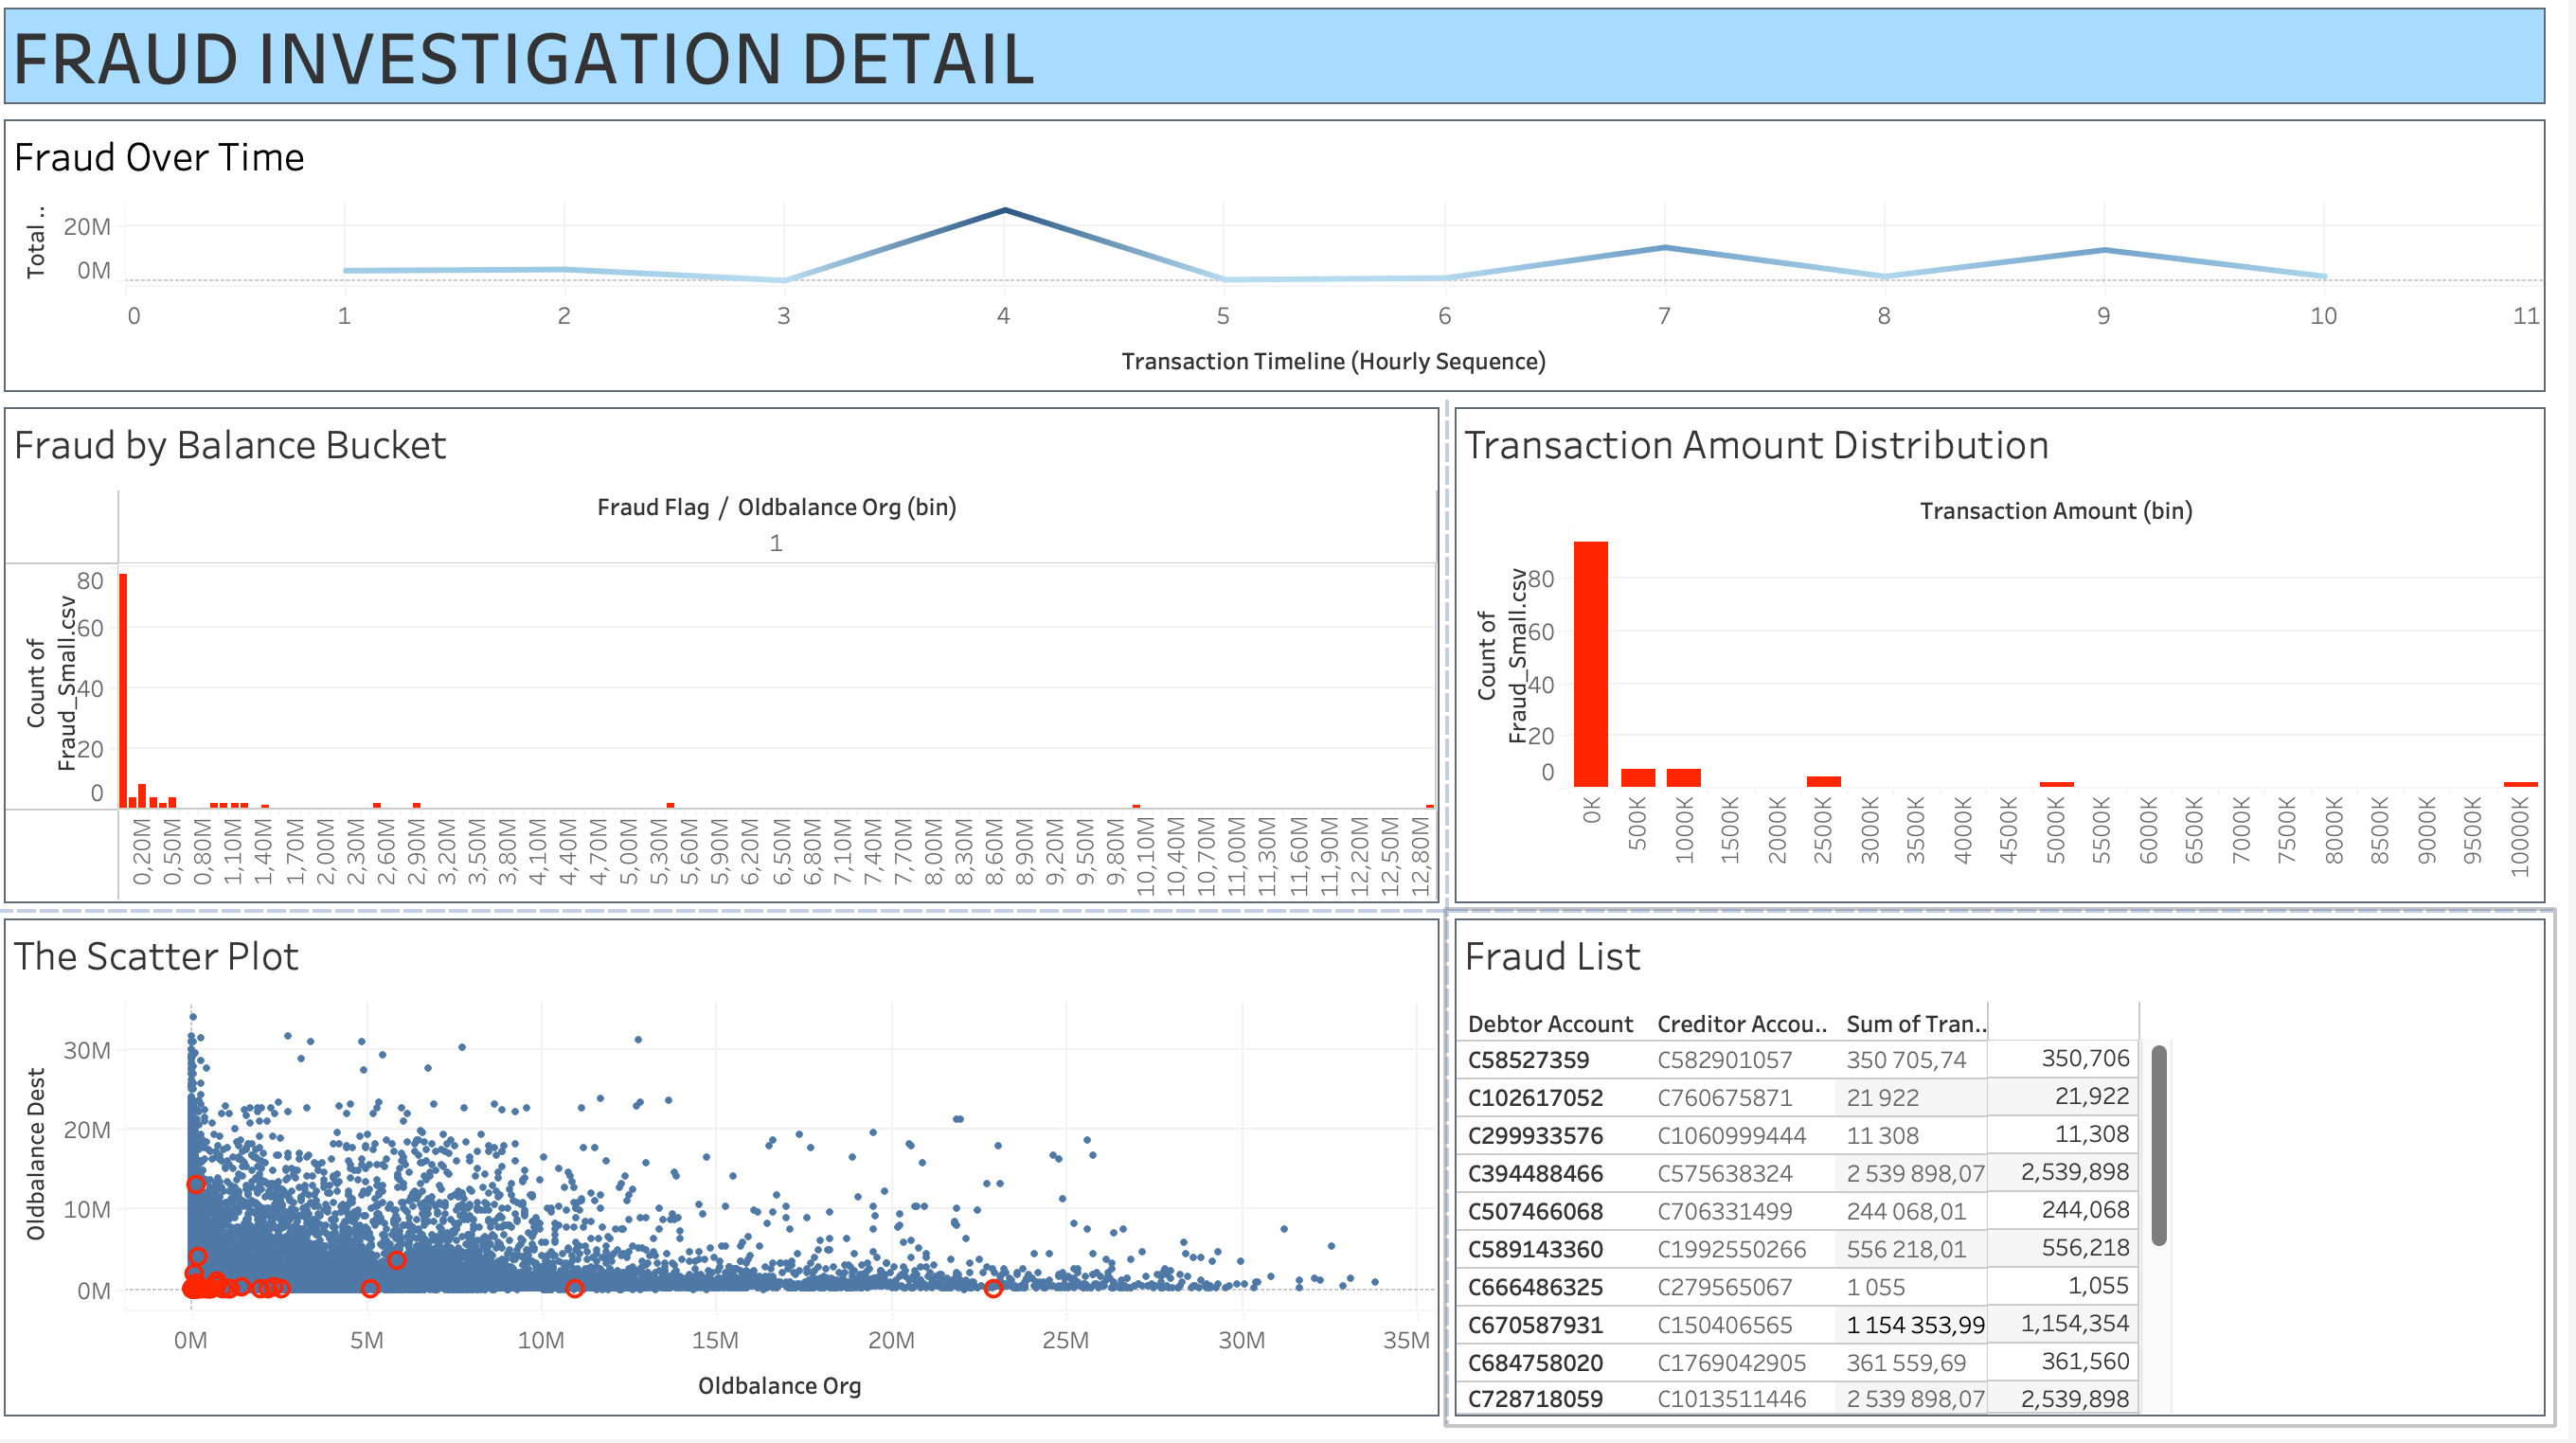

Layout of this report page (visuals, bound fields, positions):
{"tool":"tableau","page":{"name":"FRAUD INVESTIGATION DETAIL","canvas":[1366,768],"ordinal":1},"visuals":[{"type":"title","box":[8,8,1350,59]},{"type":"worksheet","title":"Fraud Over Time","mark":"Automatic","rows":["Calculation_2212416219545603"],"cols":["step"],"box":[8,67,1350,152]},{"type":"worksheet","title":"Fraud by Balance Bucket","mark":"Bar","rows":["Fraud_Small.csv_631AA968BD4843E093479AFE5AF47718"],"cols":["isFraud","Oldbalance Org (bin)"],"box":[8,219,765.7,270.5]},{"type":"worksheet","title":"Transaction Amount Distribution","mark":"Automatic","rows":["Fraud_Small.csv_631AA968BD4843E093479AFE5AF47718"],"cols":["Transaction Amount (bin)"],"box":[773.7,219,584.3,270.5]},{"type":"worksheet","title":"The Scatter Plot","mark":"Automatic","rows":["oldbalanceDest"],"cols":["oldbalanceOrg"],"box":[8,489.5,766,270.5]},{"type":"worksheet","title":"Fraud List","mark":"Automatic","rows":["nameOrig","nameDest","amount"],"box":[774,489.5,584,270.5]}]}

Visuals, with their boxes in screenshot pixels (x1, y1, x2, y2), scaled from the page's 1366x768 canvas onto the 2576x1443 screenshot:
title: Rect(15, 15, 2561, 126)
"Fraud Over Time" worksheet: Rect(15, 126, 2561, 412)
"Fraud by Balance Bucket" worksheet (Bar marks): Rect(15, 412, 1459, 919)
"Transaction Amount Distribution" worksheet: Rect(1459, 412, 2561, 919)
"The Scatter Plot" worksheet: Rect(15, 919, 1459, 1428)
"Fraud List" worksheet: Rect(1459, 919, 2561, 1428)
